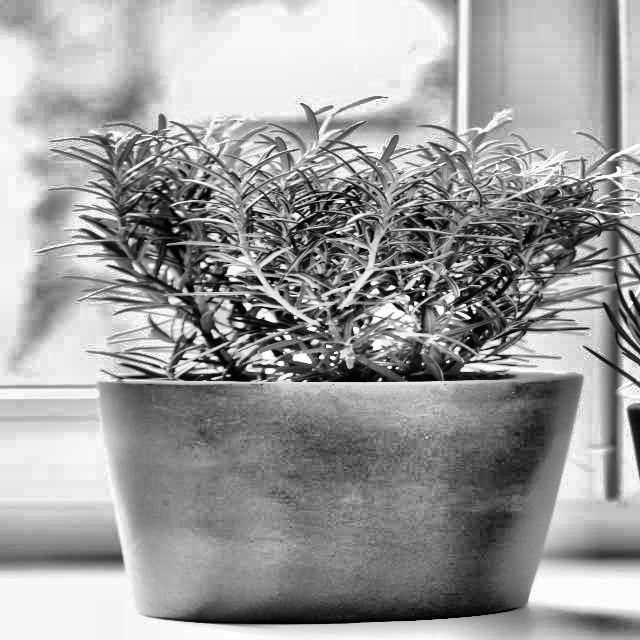plants: (58, 127, 588, 614)
